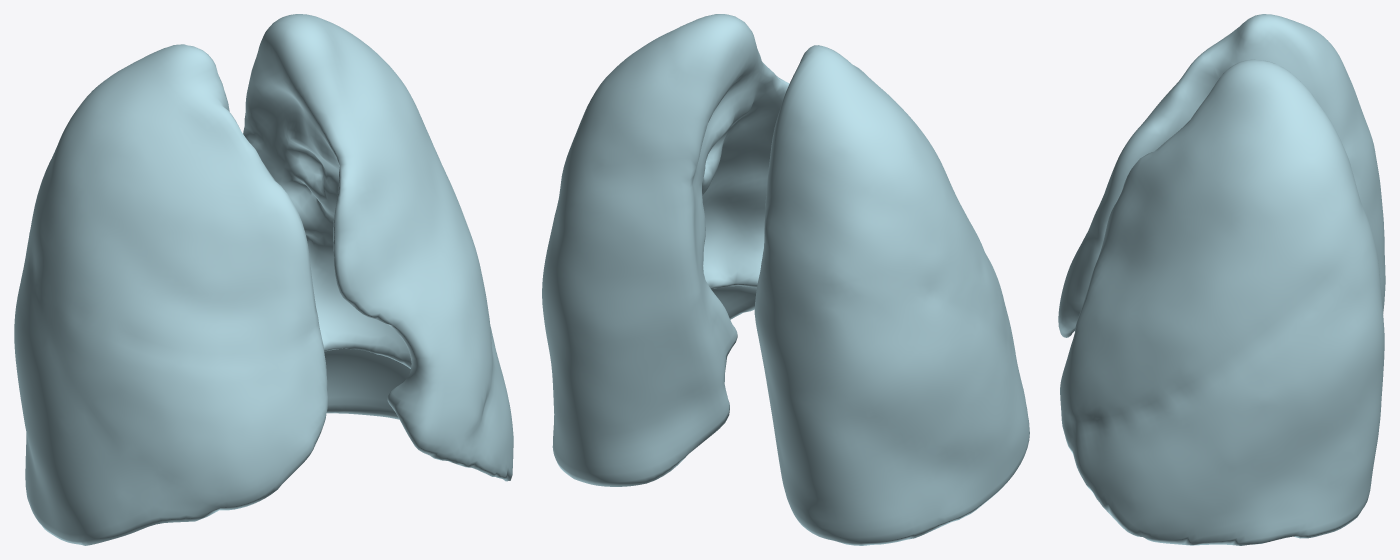
File: visceres_fascias.glb
3 views of the same model, side by side, from view 1: azimuth 30°, elevation 25°; view 2: azimuth 150°, elevation 25°; view 3: azimuth 270°, elevation 25° (orthographic). The views are drawn at different scales.
Visible parts, largest first — view 1: Pleura; view 2: Pleura; view 3: Pleura.
Part boxes in pixels (x1=…): Pleura: x1=14, y1=14, x2=513, y2=545; Pleura: x1=542, y1=14, x2=1029, y2=545; Pleura: x1=1058, y1=14, x2=1385, y2=545.
Bounding box in the file's own units: 0.2634 × 0.264 × 0.1882.
